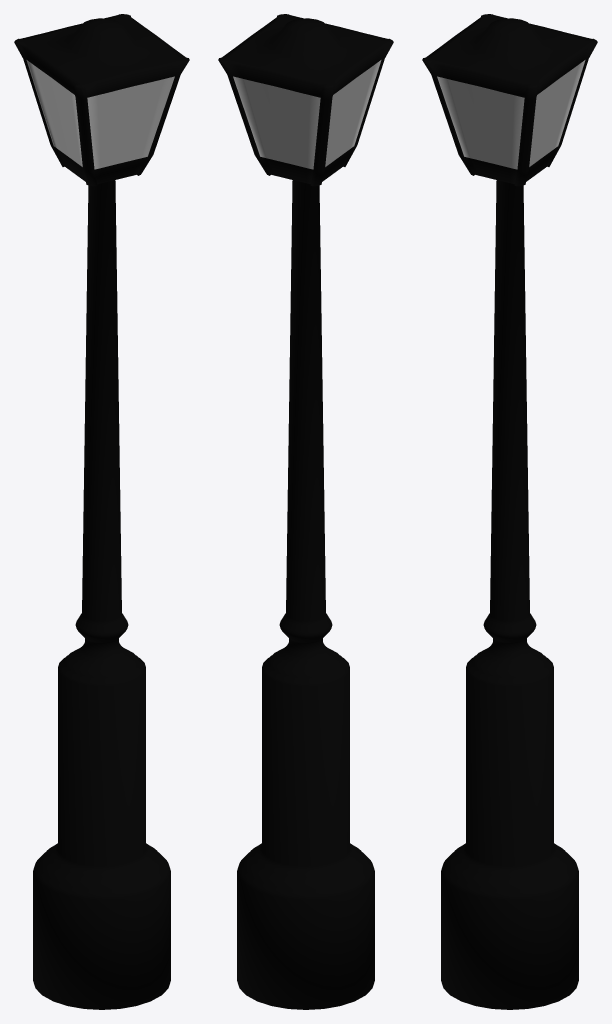
File: Street Lamp.obj
3 views of the same model, side by side, from view 1: azimuth 30°, elevation 25°; view 2: azimuth 150°, elevation 25°; view 3: azimuth 330°, elevation 25° (orthographic).
Visible parts, largest first — view 1: Lamp; view 2: Lamp; view 3: Lamp.
Boxes of the visible parts, bbox=[...] form: Lamp: bbox=[14, 14, 189, 1009]; Lamp: bbox=[218, 14, 393, 1009]; Lamp: bbox=[422, 14, 597, 1009].
Bounding box in the file's own units: 0.6654 × 5.1 × 0.6654.
Materials: 2 (1 with a texture image).
